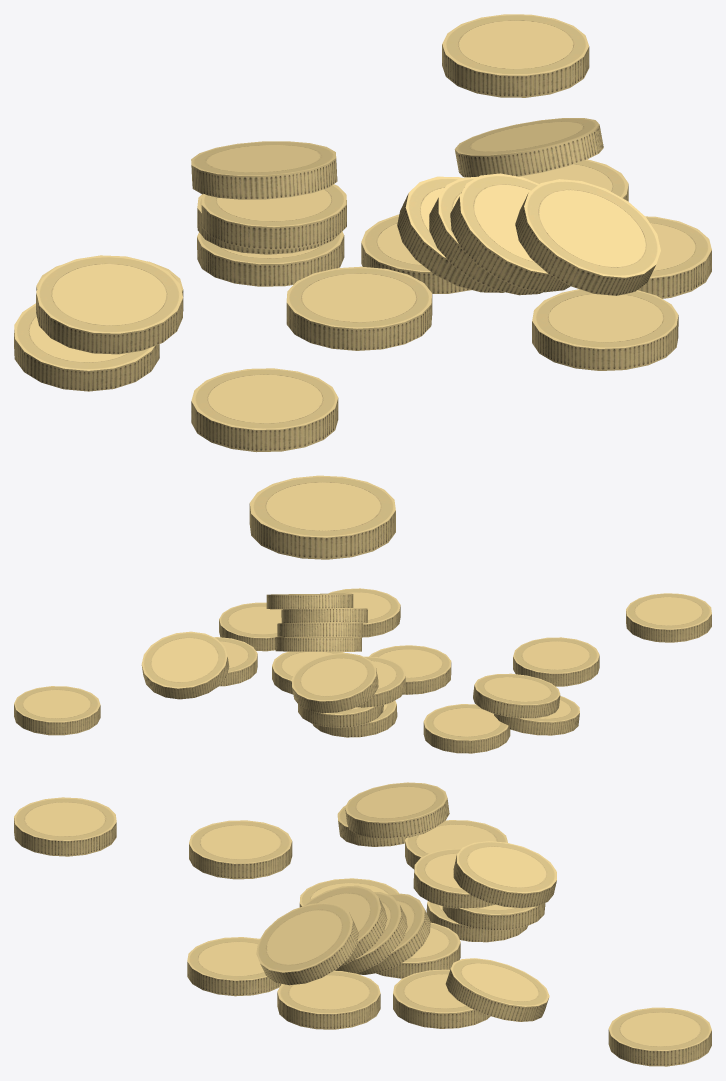
File: Coin_D.fbx
The picture shows the model from 3 angles, top to bottom: view 1: azimuth 30°, elevation 25°; view 2: azimuth 150°, elevation 25°; view 3: azimuth 270°, elevation 25°; orthographic projection. The views are drawn at different scales.
Parts seen in each view (by area): view 1: Cylinder036, Cylinder048, Cylinder045, Cylinder033, Cylinder044, Cylinder041, Cylinder030, Cylinder039, Cylinder035, Cylinder040, Cylinder032, Cylinder047 (+7 smaller); view 2: Cylinder032, Cylinder039, Cylinder033, Cylinder044, Cylinder045, Cylinder046, Cylinder048, Cylinder041, Cylinder029, Cylinder030, Cylinder047, Cylinder040 (+8 smaller); view 3: Cylinder036, Cylinder039, Cylinder033, Cylinder045, Cylinder044, Cylinder029, Cylinder032, Cylinder048, Cylinder030, Cylinder031, Cylinder040, Cylinder035 (+8 smaller).
Boxes of the visible parts, x1,y1,x2,y2 form: Cylinder036: [515, 179, 660, 295]; Cylinder048: [36, 255, 183, 354]; Cylinder045: [191, 368, 338, 452]; Cylinder033: [442, 14, 589, 97]; Cylinder044: [249, 475, 395, 559]; Cylinder041: [286, 266, 432, 350]; Cylinder030: [532, 289, 678, 370]; Cylinder039: [191, 141, 337, 199]; Cylinder035: [450, 173, 570, 292]; Cylinder040: [201, 184, 346, 249]; Cylinder032: [454, 118, 603, 177]; Cylinder047: [14, 303, 159, 391]; Cylinder032: [141, 631, 229, 699]; Cylinder039: [291, 653, 378, 713]; Cylinder033: [14, 686, 100, 735]; Cylinder044: [626, 593, 711, 642]; Cylinder045: [513, 637, 599, 686]; Cylinder046: [423, 704, 510, 753]; Cylinder048: [473, 673, 560, 718]; Cylinder041: [369, 645, 451, 694]; Cylinder029: [219, 602, 282, 651]; Cylinder030: [328, 588, 400, 637]; Cylinder047: [494, 696, 579, 735]; Cylinder040: [356, 656, 405, 707]; Cylinder036: [256, 902, 358, 985]; Cylinder039: [453, 841, 556, 908]; Cylinder033: [608, 1007, 711, 1066]; Cylinder045: [189, 820, 292, 879]; Cylinder044: [14, 797, 116, 856]; Cylinder029: [277, 970, 380, 1029]; Cylinder032: [445, 958, 549, 1021]; Cylinder048: [345, 782, 449, 838]; Cylinder030: [187, 937, 281, 996]; Cylinder031: [393, 969, 490, 1028]; Cylinder040: [413, 848, 494, 908]; Cylinder035: [303, 885, 387, 965].
Size of the model in its own units: 32.32 by 37.11 by 4.31.
